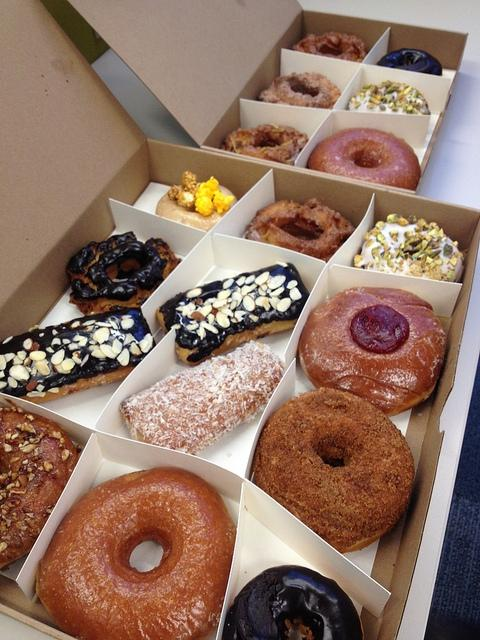almond: (10, 364, 30, 382), (267, 274, 286, 290), (52, 360, 72, 374), (139, 333, 153, 353), (92, 327, 110, 342), (100, 344, 118, 359), (215, 311, 230, 328), (242, 294, 256, 312), (89, 345, 107, 359), (116, 348, 130, 366), (254, 271, 270, 286), (276, 297, 292, 312), (200, 321, 218, 334), (51, 348, 65, 364), (269, 284, 285, 298), (94, 331, 110, 345), (36, 362, 50, 376), (199, 304, 213, 318), (61, 358, 76, 371), (31, 358, 49, 368), (187, 307, 202, 319), (232, 292, 243, 308), (190, 311, 206, 322), (289, 287, 302, 300), (212, 298, 228, 308), (30, 350, 46, 360), (186, 288, 202, 298), (121, 318, 135, 329), (222, 278, 234, 290), (24, 338, 34, 352), (220, 308, 234, 318), (123, 334, 134, 346), (80, 354, 90, 367), (4, 352, 16, 362), (108, 318, 118, 330), (73, 334, 88, 342), (95, 321, 112, 328), (262, 297, 270, 311), (0, 354, 7, 370), (216, 303, 230, 311), (185, 322, 199, 330), (8, 377, 18, 388), (70, 320, 81, 330), (286, 280, 298, 289), (206, 313, 215, 325), (255, 296, 265, 306), (236, 276, 246, 286), (182, 306, 192, 316), (276, 260, 288, 268), (17, 350, 26, 360), (139, 340, 148, 350), (229, 300, 238, 310), (245, 276, 255, 284), (68, 343, 78, 350), (24, 356, 31, 366), (254, 288, 260, 296), (73, 352, 81, 358), (0, 370, 5, 378), (266, 288, 272, 294), (52, 330, 58, 336), (25, 367, 32, 372), (190, 320, 197, 324), (178, 302, 185, 306)
